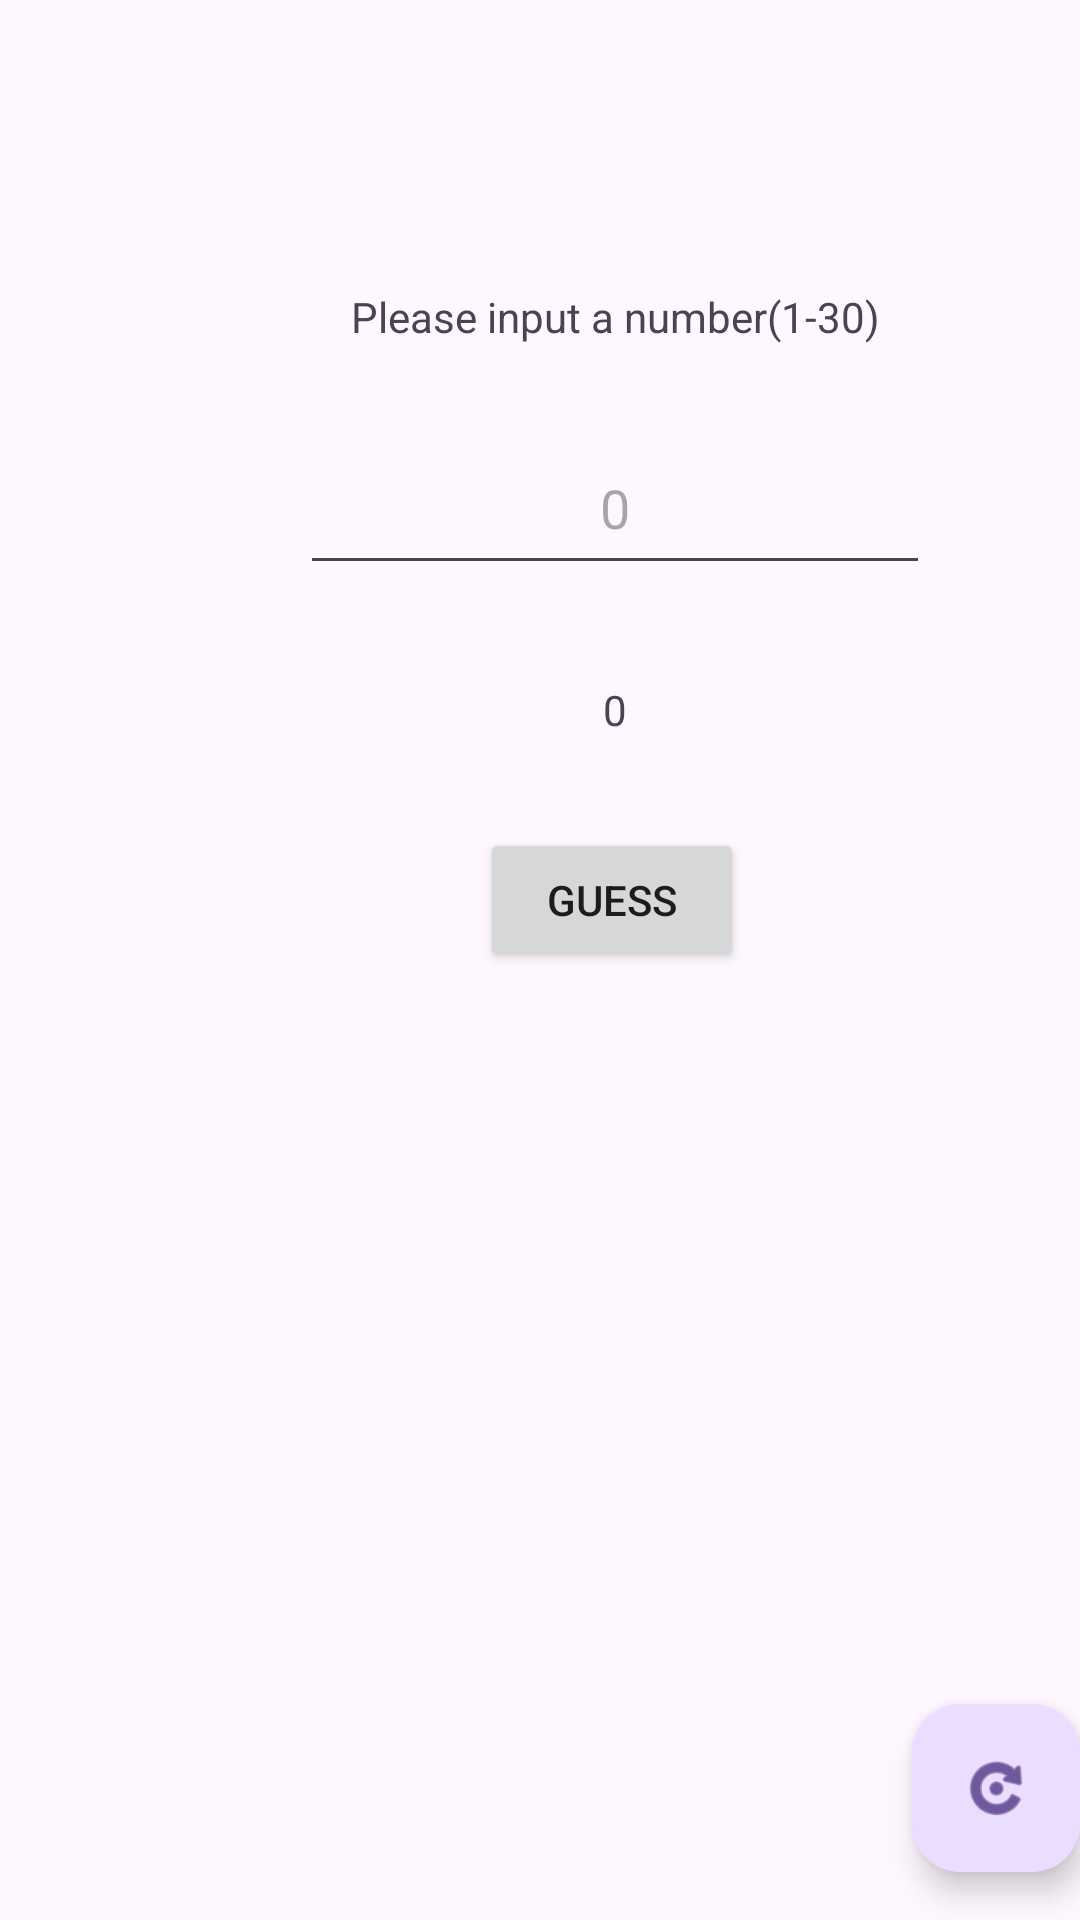

Named icons in this screenshot (1080w x 1920h) and their bounding boxes, (x1, y1, x2, y2):
rotate: (912, 1704, 1080, 1872)
